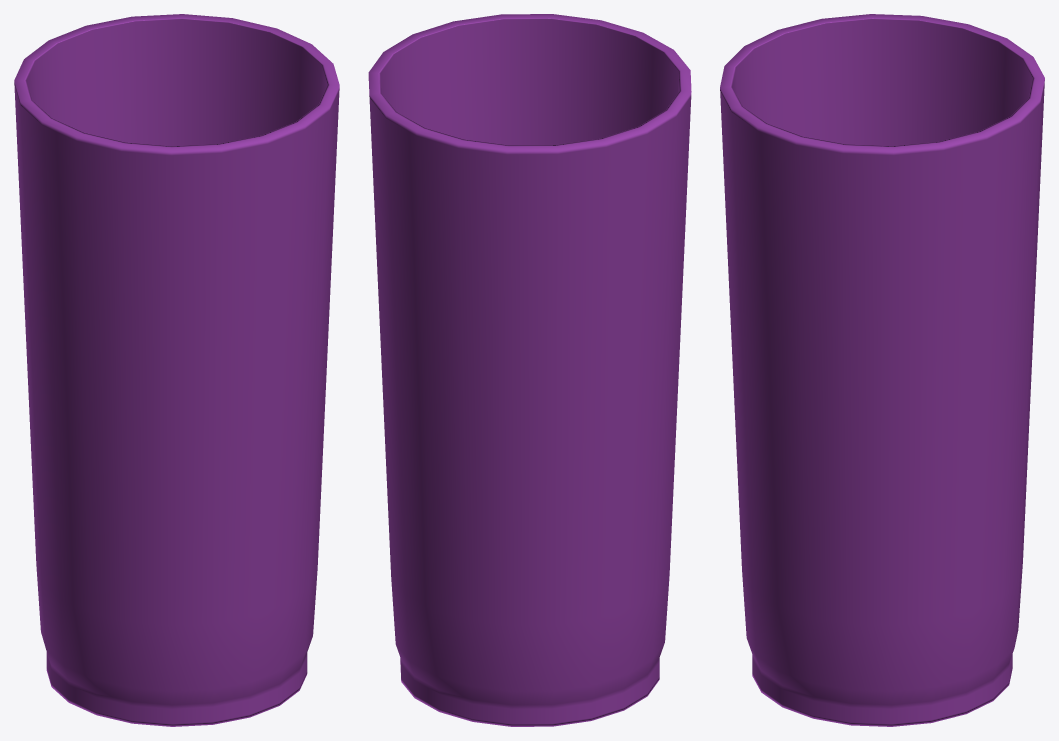
File: Glass Mod.fbx
3 views of the same model, side by side, from view 1: azimuth 30°, elevation 25°; view 2: azimuth 150°, elevation 25°; view 3: azimuth 270°, elevation 25° (orthographic).
Parts seen in each view (by area): view 1: Glass_Cylinder3; view 2: Glass_Cylinder3; view 3: Glass_Cylinder3.
Part boxes in pixels (<box>): Glass_Cylinder3: <box>14,14,339,726</box>; Glass_Cylinder3: <box>368,14,691,726</box>; Glass_Cylinder3: <box>720,14,1044,726</box>.
Size of the model in its own units: 8.6 by 17.21 by 8.6.
